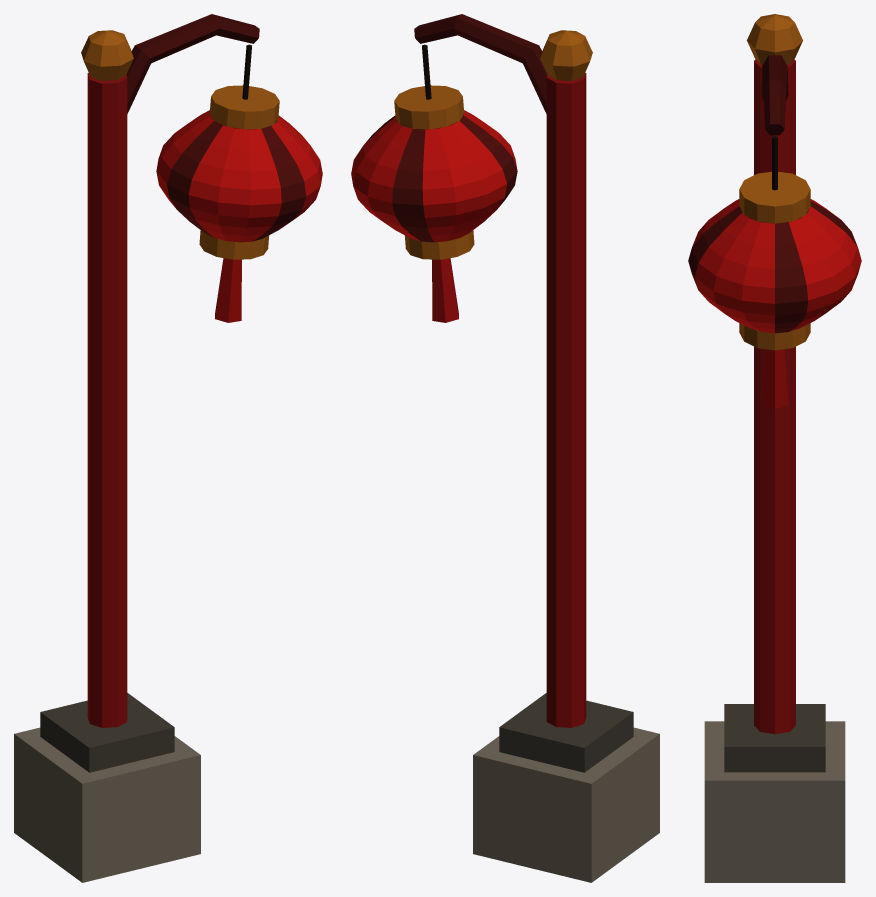
The model's file is ENV_LanternPost.fbx.
3 renders of one model, left to right at view 1: azimuth 30°, elevation 25°; view 2: azimuth 150°, elevation 25°; view 3: azimuth 270°, elevation 25°, orthographic. The views are drawn at different scales.
Visible parts, largest first — view 1: ENV_LanternPost_Post, ENV_LanternPost_L_Mesh; view 2: ENV_LanternPost_Post, ENV_LanternPost_L_Mesh; view 3: ENV_LanternPost_Post, ENV_LanternPost_L_Mesh.
Part boxes in pixels (box(x1,y1,x2,y2)): ENV_LanternPost_Post: box(14, 14, 259, 882); ENV_LanternPost_L_Mesh: box(156, 44, 322, 322); ENV_LanternPost_Post: box(414, 14, 659, 882); ENV_LanternPost_L_Mesh: box(351, 44, 517, 322); ENV_LanternPost_Post: box(704, 14, 845, 882); ENV_LanternPost_L_Mesh: box(688, 136, 861, 408).
Size of the model in its own units: 1.11 by 3.28 by 0.616.
